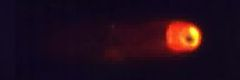keyhole: (182, 35, 197, 45)
